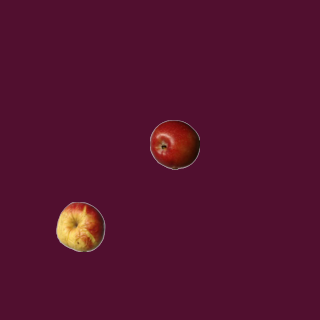Apple Braeburn: (149, 119, 199, 169)
Apple Red Yellow 1: (55, 201, 105, 251)
